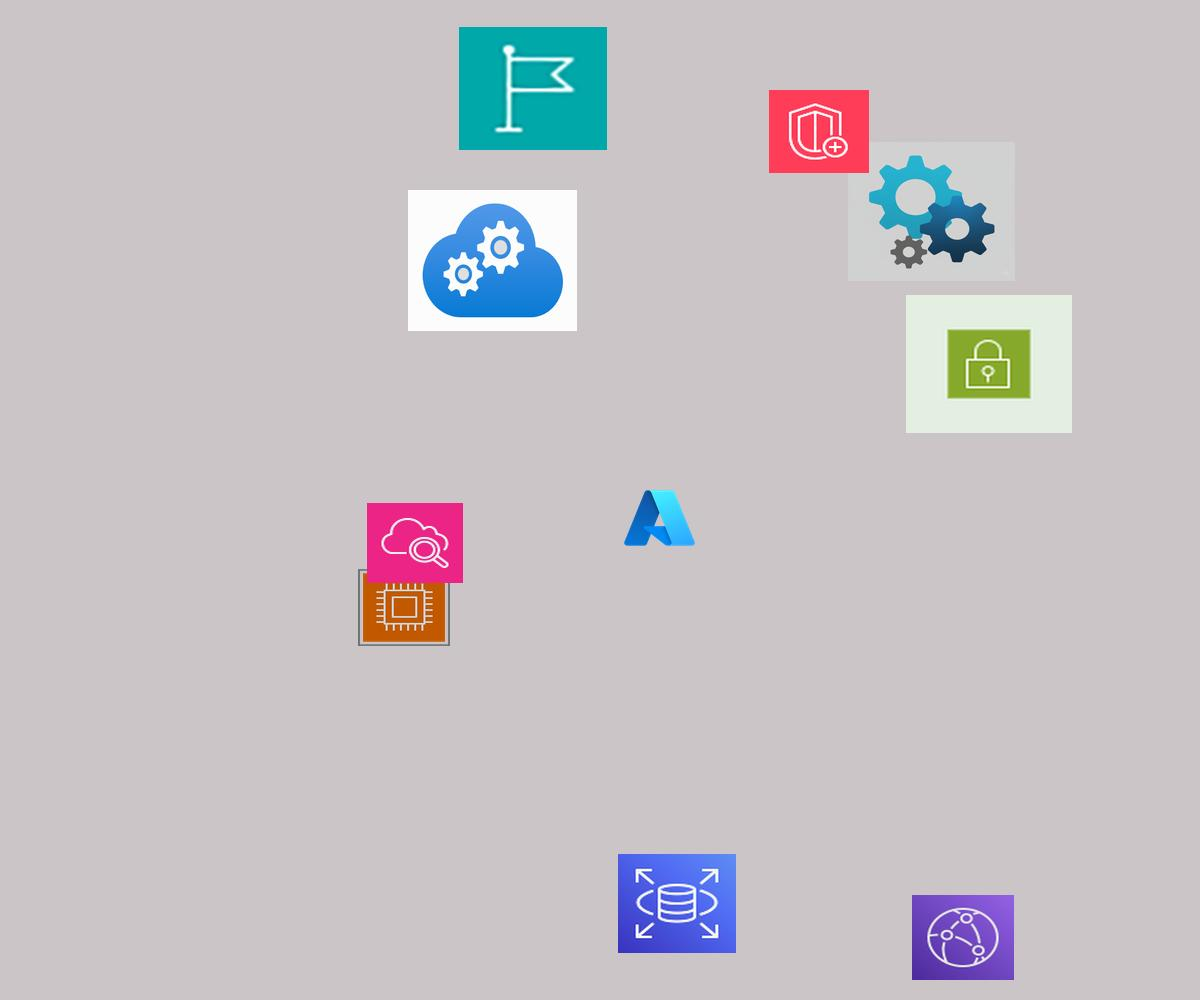AWS-Category_Compute: (358, 569, 450, 646)
AWS-CloudFront: (912, 895, 1014, 980)
AWS-CloudWatch: (367, 503, 463, 583)
AWS-Public-subnet: (906, 295, 1072, 433)
AWS-RDS: (618, 854, 736, 953)
AWS-Region: (459, 27, 607, 150)
AWS-Shield: (769, 90, 869, 173)
Azure_api: (848, 142, 1015, 281)
Azure_cloud_services: (408, 190, 577, 331)
Azure_services: (621, 486, 698, 550)
